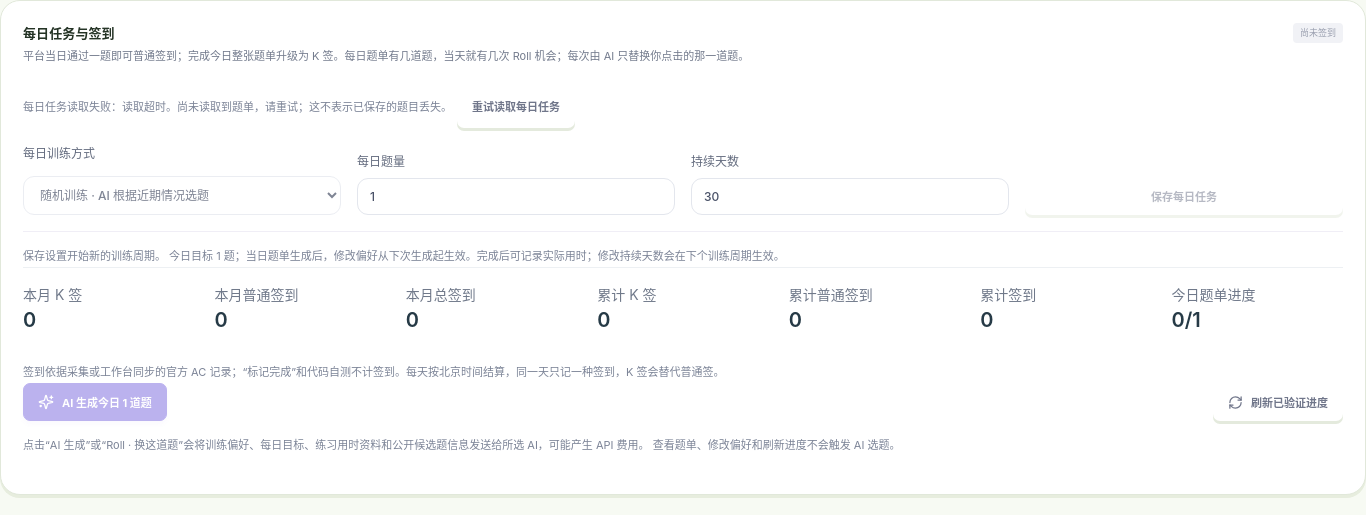
Test: shows a local read failure and retries without generating another paid AI request
The width and height of the screenshot is (1366, 515).
Expected: the message "每日任务读取失败：读取超时。尚未读取到题单，请重试；这不表示已保存的题目丢失。 重试读取每日任务" is shown, [23, 86, 575, 128]
Expected: the button "保存每日任务" is disabled, [1025, 178, 1343, 216]
Click the button "重试读取每日任务": (516, 107) [457, 86, 575, 128]
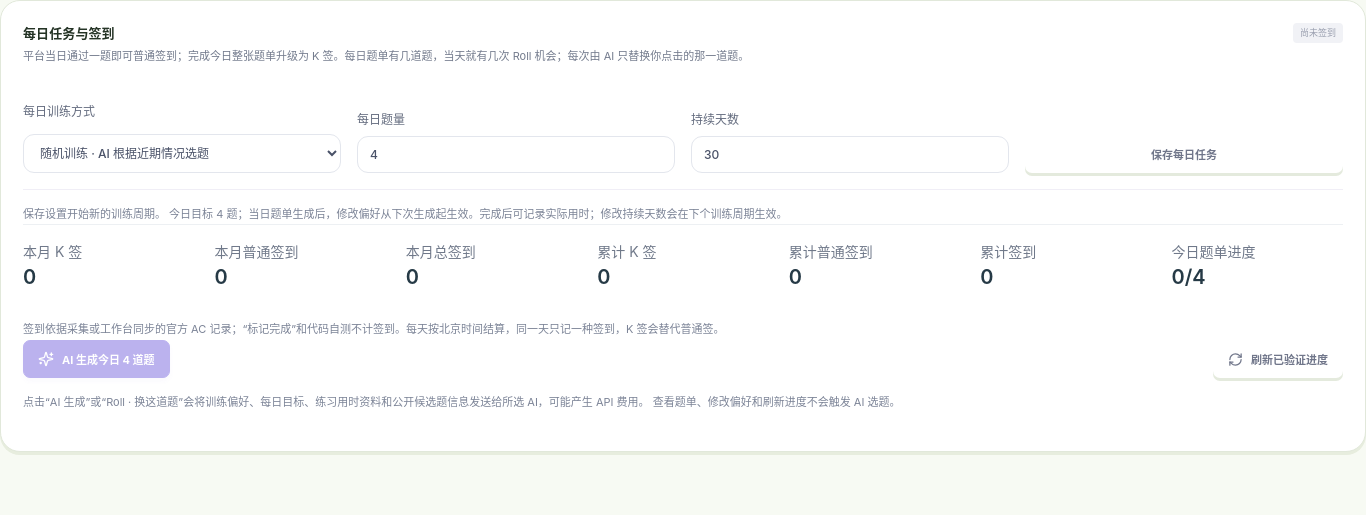
Now the number field labelled "每日题量" holds "4", box [357, 136, 675, 173]
Now the button "保存每日任务" is enabled, box [1025, 135, 1343, 173]
Now the message "每日任务读取失败：读取超时。尚未读取到题单，请重试；这不表示已保存的题目丢失。 重试读取每日任务" is gone
